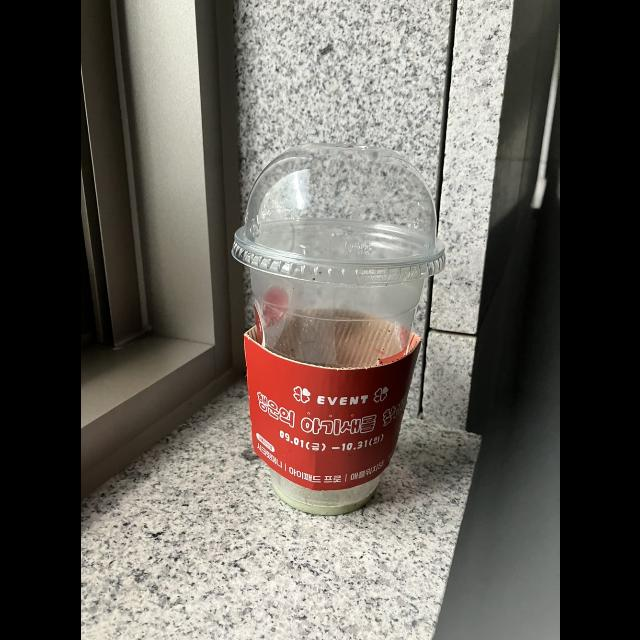plastic_cup: (219, 143, 443, 531)
plastic_cup_lid: (227, 144, 448, 288)
